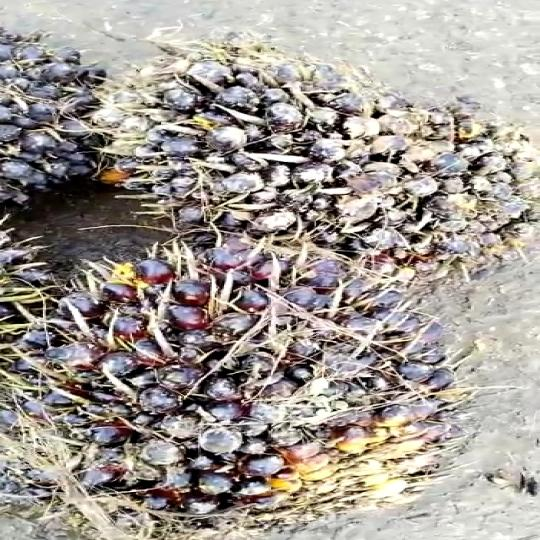mentah: (19, 237, 431, 526), (111, 34, 540, 285)
